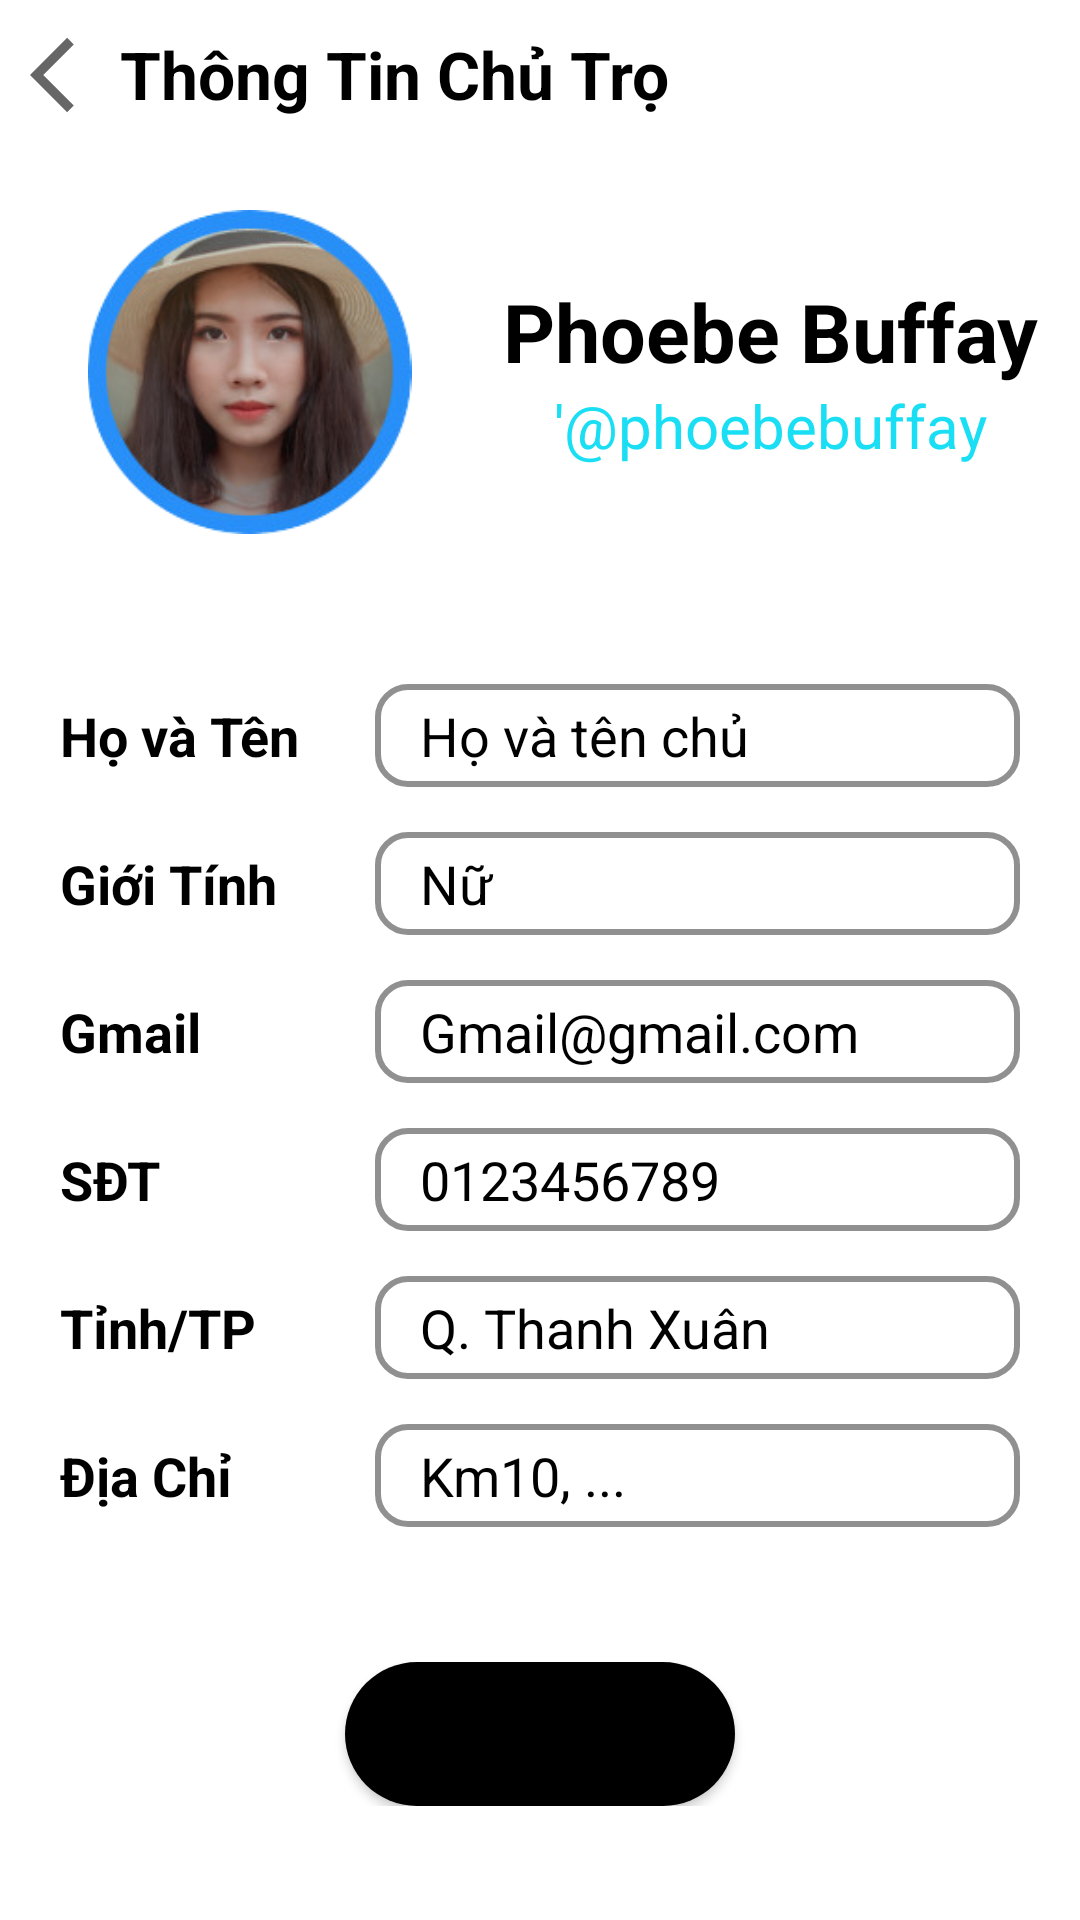

Named icons in this screenshot (1080 x 1920) and their centers, (x,y):
back: (52,75)
user: (250,372)
